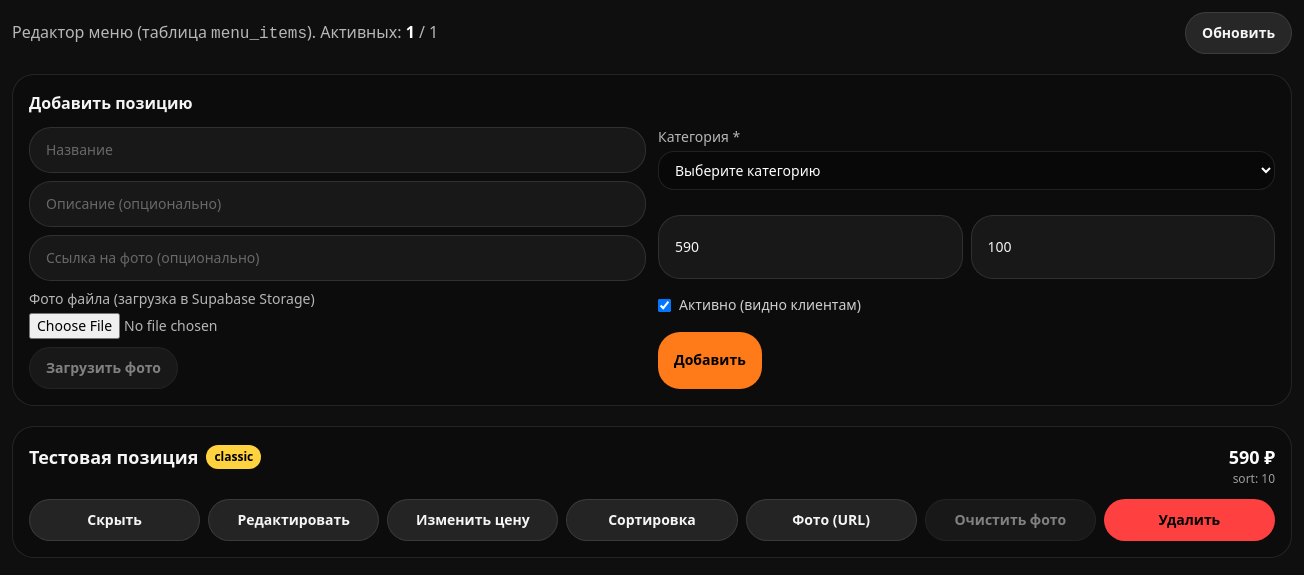
AdminMenuPage › updates item with legacy category using supported category and shows success
Expected: the text "Тестовая позиция" is shown, [29, 443, 198, 471]
Click the button "Редактировать".
click(294, 520)  # box [208, 499, 379, 541]
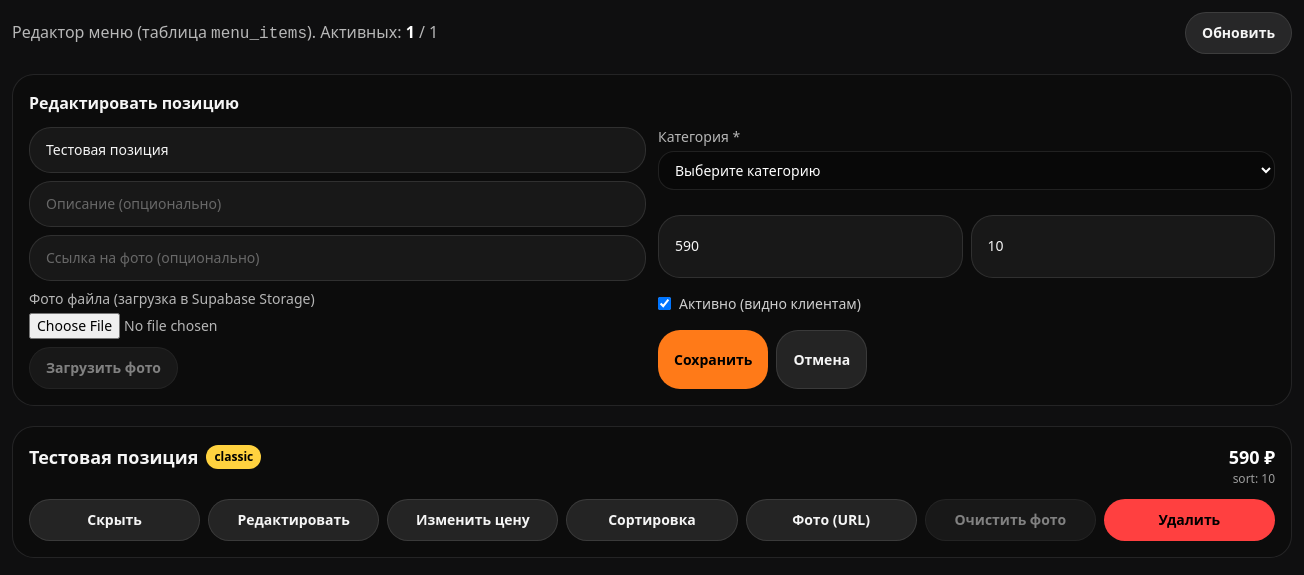
Click the button "Сохранить".
click(713, 360)  # box [658, 330, 768, 389]
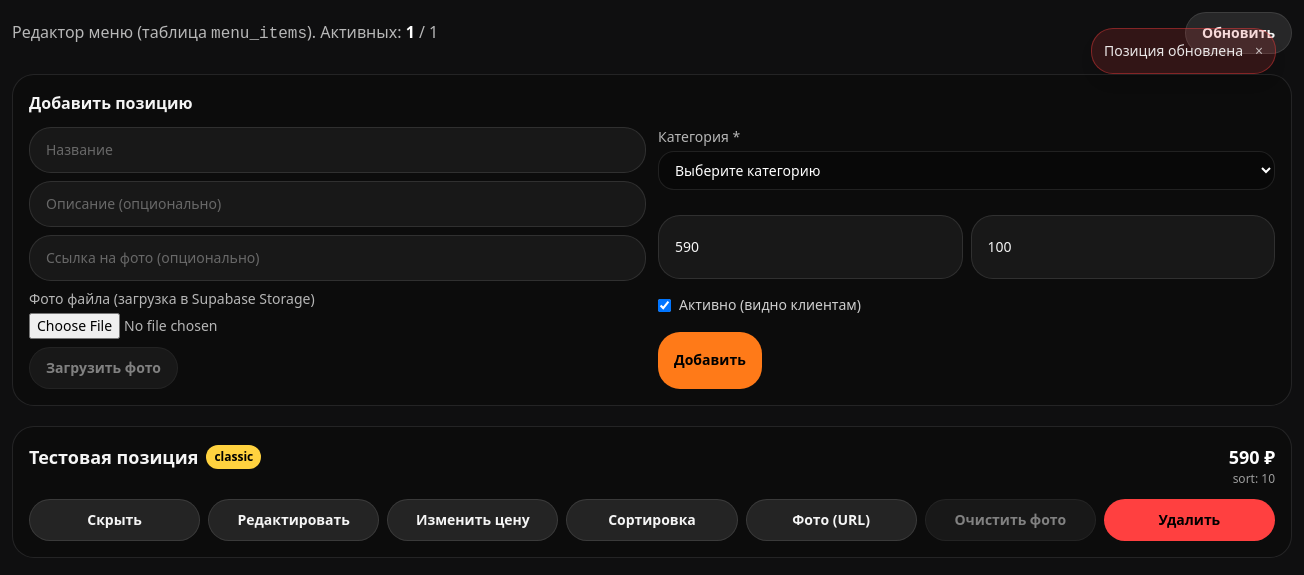
Result: the text "Позиция обновлена" is shown at [1104, 41, 1243, 61]
